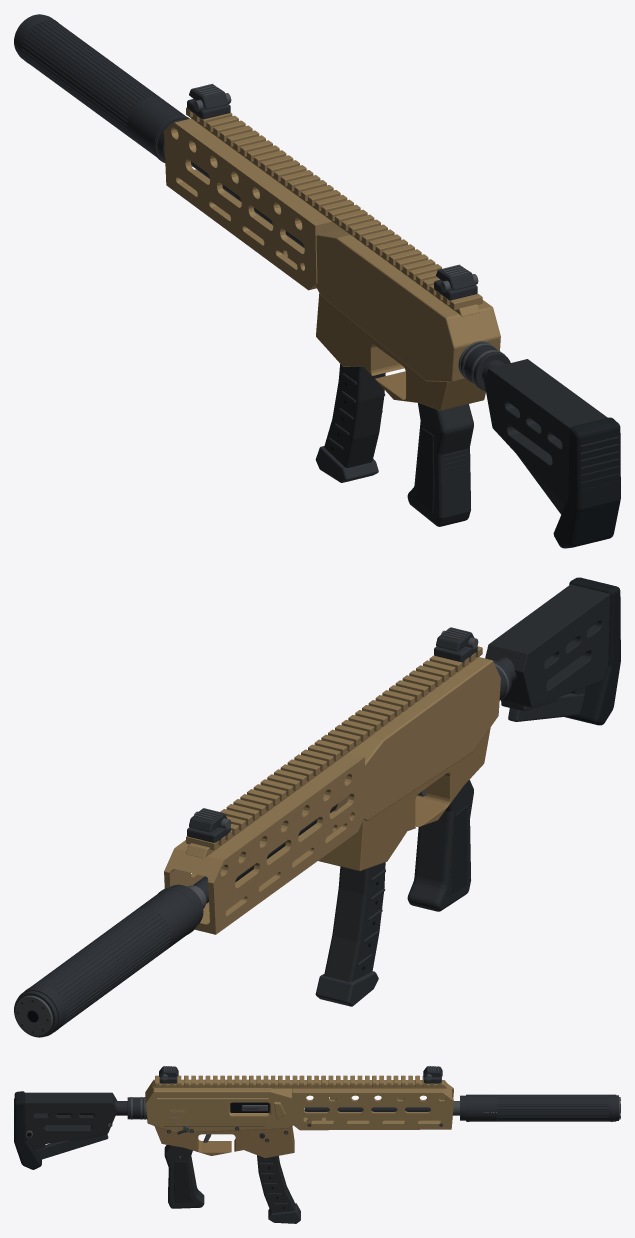
File: mohac.glb
The picture shows the model from 3 angles, top to bottom: view 1: azimuth 30°, elevation 25°; view 2: azimuth 150°, elevation 25°; view 3: azimuth 270°, elevation 25°; orthographic projection. The views are drawn at different scales.
Parts seen in each view (by area): view 1: MOHAC_Visual_Model; view 2: MOHAC_Visual_Model; view 3: MOHAC_Visual_Model.
Part boxes in pixels (x1,y1,x2,y2): MOHAC_Visual_Model: [14, 14, 620, 548]; MOHAC_Visual_Model: [14, 577, 620, 1037]; MOHAC_Visual_Model: [14, 1066, 620, 1223].
Bounding box in the file's own units: 0.0582 × 0.2724 × 0.9902.
